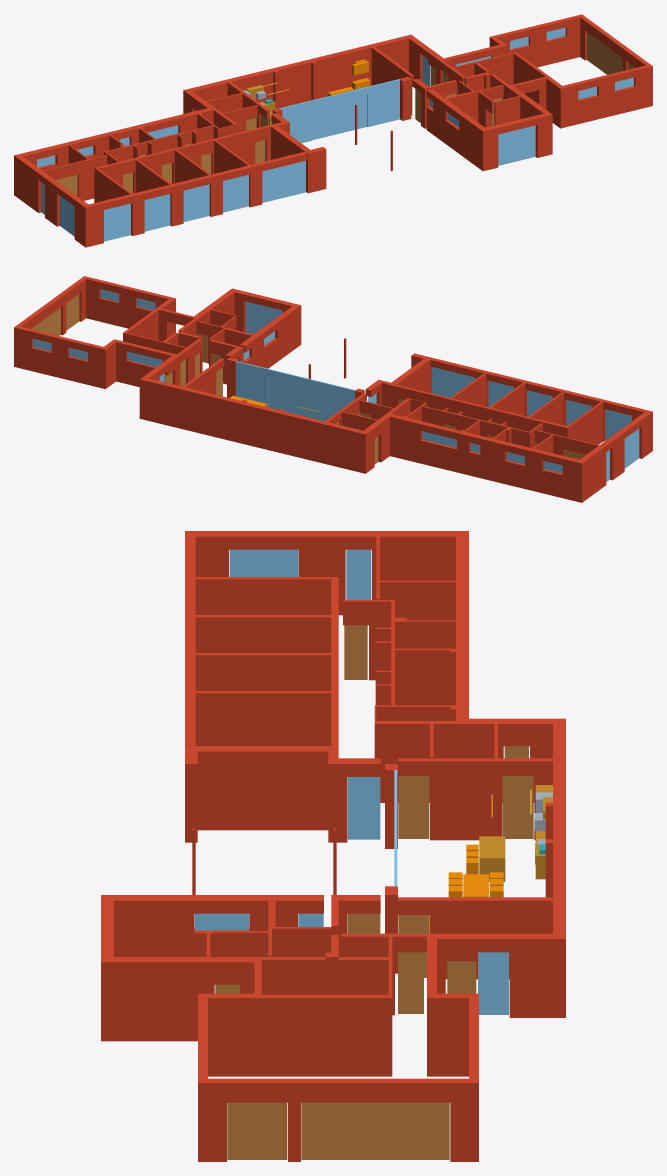
The model's file is ground_floor.glb.
3 views of the same model, one above another, from view 1: azimuth 30°, elevation 25°; view 2: azimuth 150°, elevation 25°; view 3: azimuth 270°, elevation 25° (orthographic). The views are drawn at different scales.
Visible parts, largest first — view 1: masonry (×36), glazing (×9), door; view 2: masonry (×34), glazing (×9), door (×2); view 3: masonry (×37), door (×7), glazing (×5), cabinet.
Part boxes in pixels (left/top/right/bottom): masonry (×36): left=14, top=14, right=652, bottom=247; glazing (×9): left=59, top=79, right=535, bottom=241; door: left=587, top=32, right=622, bottom=74; masonry (×34): left=14, top=276, right=652, bottom=502; glazing (×9): left=236, top=301, right=639, bottom=468; door (×2): left=31, top=294, right=79, bottom=335; masonry (×37): left=101, top=531, right=565, bottom=1161; door (×7): left=227, top=625, right=533, bottom=1159; glazing (×5): left=194, top=549, right=508, bottom=1014; cabinet: left=479, top=836, right=505, bottom=881.
Size of the model in its own units: 45.05 by 3 by 16.05.
